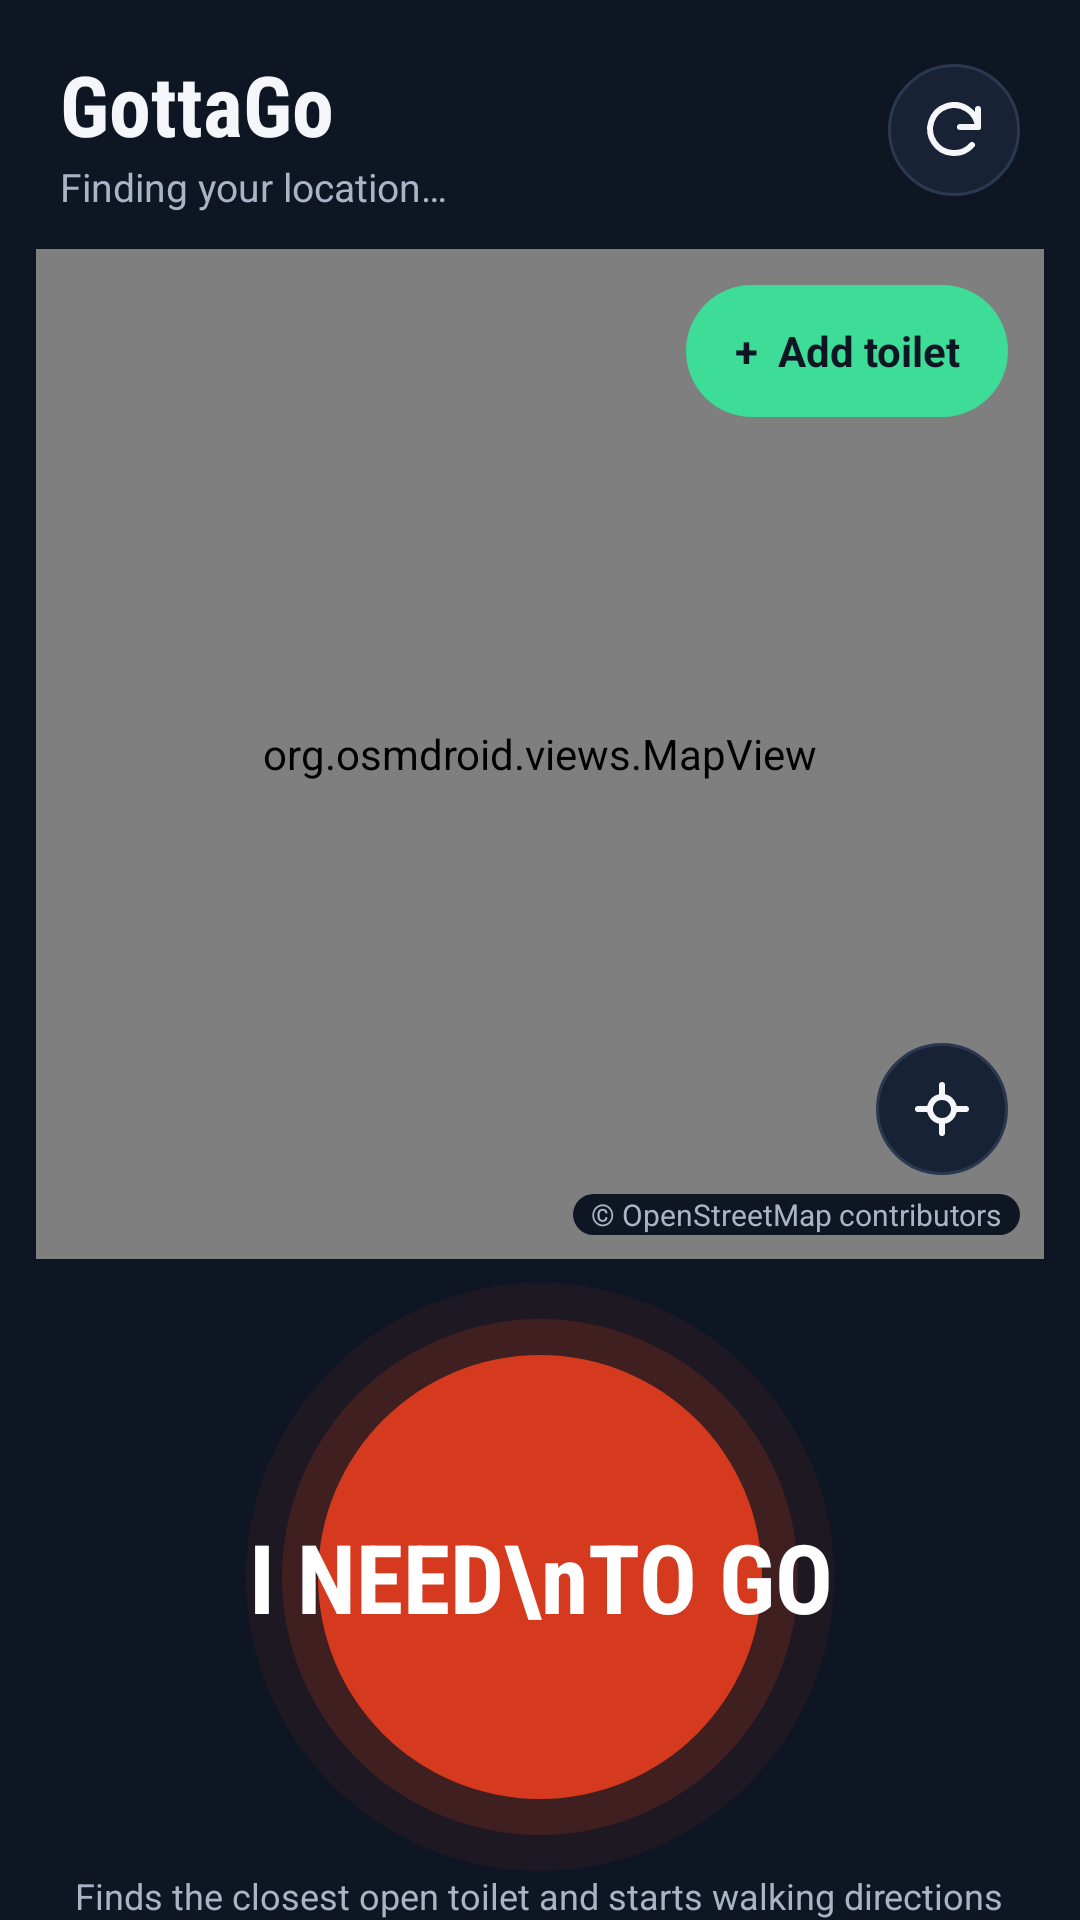

Where to tap for icons on this 1080 × 1920 app screen, as (x=x, y=y):
Refresh: (x=954, y=130)
Show my location: (x=942, y=1109)
